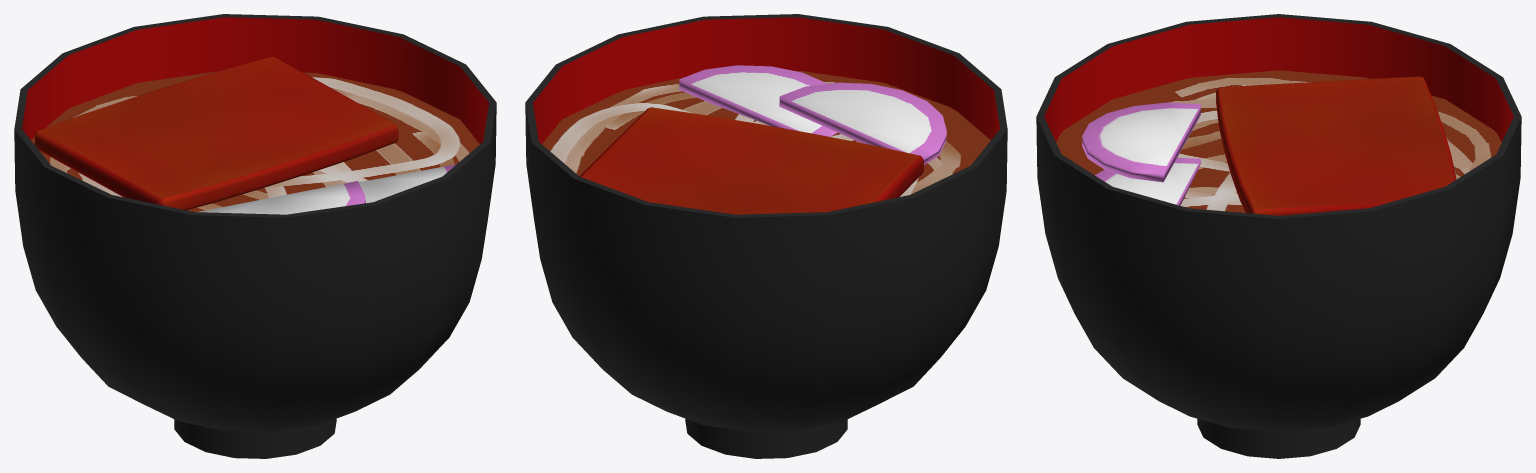
File: FoxUdon.fbx
3 views of the same model, side by side, from view 1: azimuth 30°, elevation 25°; view 2: azimuth 150°, elevation 25°; view 3: azimuth 270°, elevation 25° (orthographic).
Parts seen in each view (by area): view 1: Utuwa, aburaage, udon, kamaboko01, kamaboko02; view 2: Utuwa, aburaage, udon, kamaboko01, kamaboko02; view 3: Utuwa, aburaage, udon, kamaboko01, kamaboko02.
Part boxes in pixels (bbox=[...]): Utuwa: bbox=[14, 14, 496, 458]; aburaage: bbox=[35, 56, 398, 210]; udon: bbox=[31, 71, 479, 212]; kamaboko01: bbox=[197, 181, 365, 214]; kamaboko02: bbox=[358, 164, 456, 203]; Utuwa: bbox=[525, 14, 1007, 458]; aburaage: bbox=[579, 107, 923, 214]; udon: bbox=[542, 70, 990, 196]; kamaboko01: bbox=[779, 82, 946, 164]; kamaboko02: bbox=[679, 65, 837, 136]; Utuwa: bbox=[1036, 14, 1521, 458]; aburaage: bbox=[1216, 76, 1456, 215]; udon: bbox=[1056, 70, 1501, 212]; kamaboko01: bbox=[1082, 102, 1200, 182]; kamaboko02: bbox=[1095, 157, 1200, 205].
Bounding box in the file's own units: 100 × 70.08 × 100.
